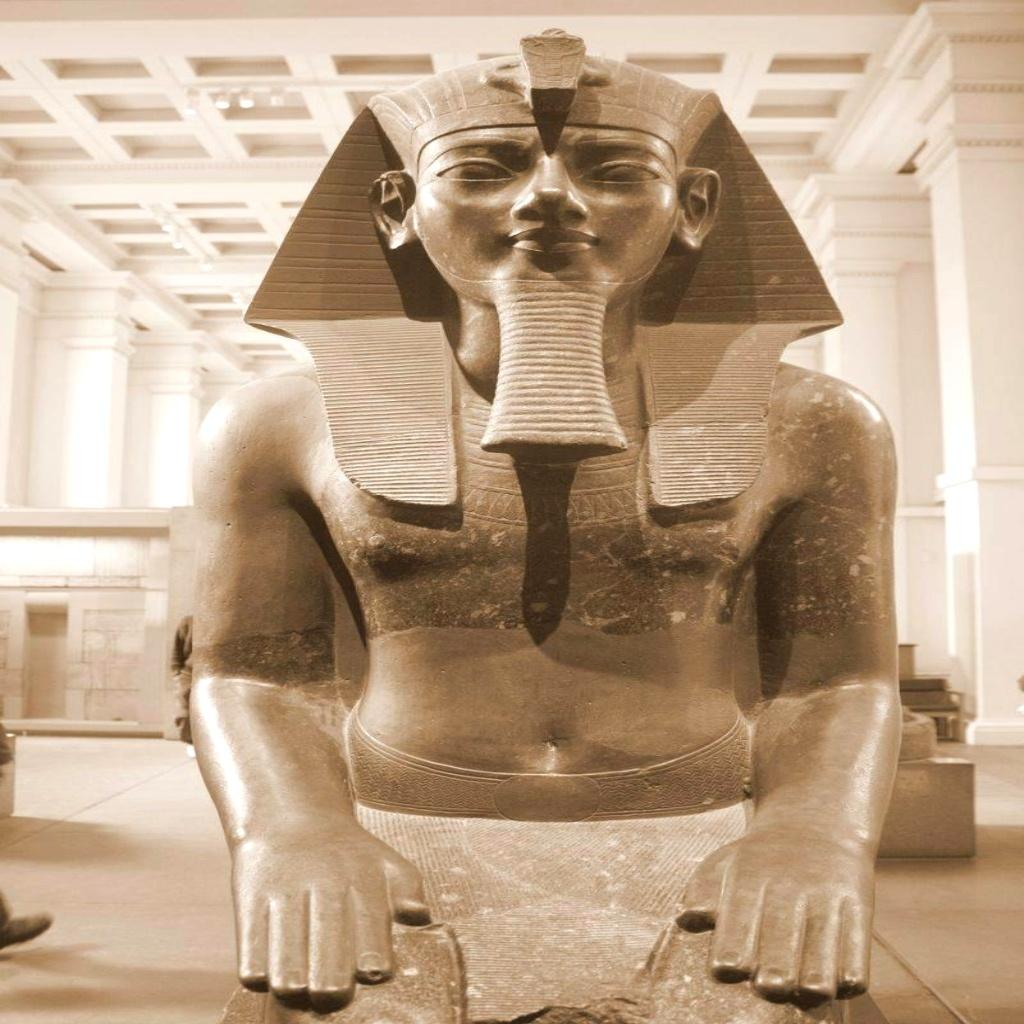Amenhotep III: (168, 29, 910, 1021)
